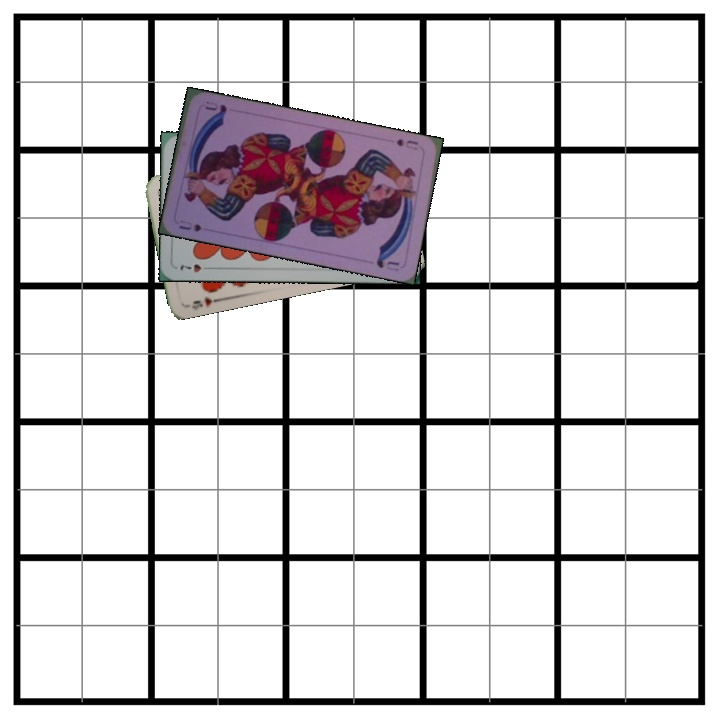H7: (176, 260, 215, 275)
H9: (183, 292, 224, 312)
SU: (175, 216, 204, 234), (392, 135, 421, 149)
